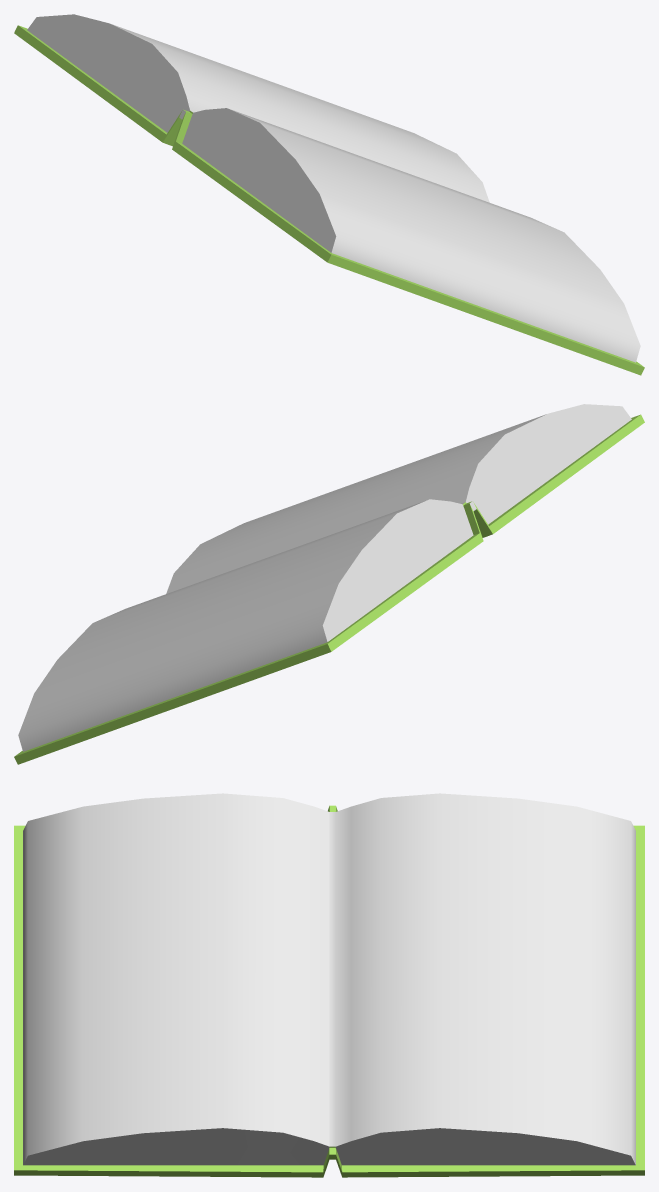
Rendered from RecipeBook(1).fbx.
3 renders of one model, top to bottom at view 1: azimuth 30°, elevation 25°; view 2: azimuth 150°, elevation 25°; view 3: azimuth 270°, elevation 25°, orthographic.
Parts seen in each view (by area): view 1: Book_Recipes; view 2: Book_Recipes; view 3: Book_Recipes.
Part boxes in pixels (x1,y1,x2,y2): Book_Recipes: (14, 14, 644, 375); Book_Recipes: (14, 404, 644, 764); Book_Recipes: (14, 793, 644, 1177).
Size of the model in its own units: 117 by 80.09 by 185.
